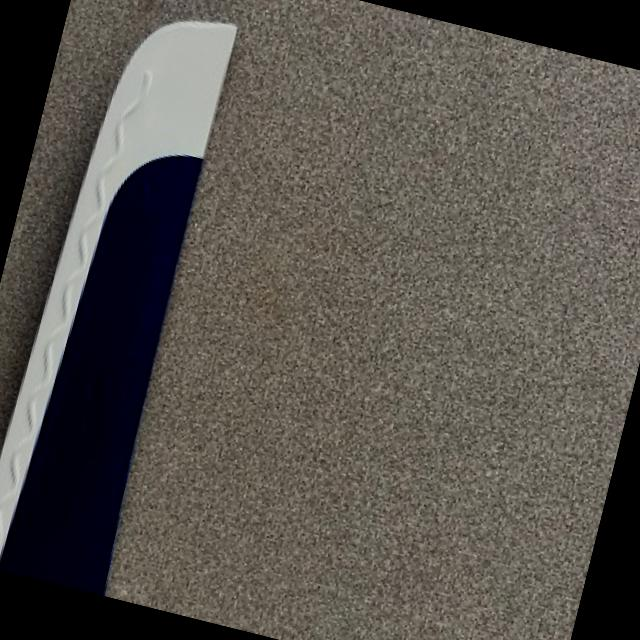healthy: (0, 18, 233, 593)
